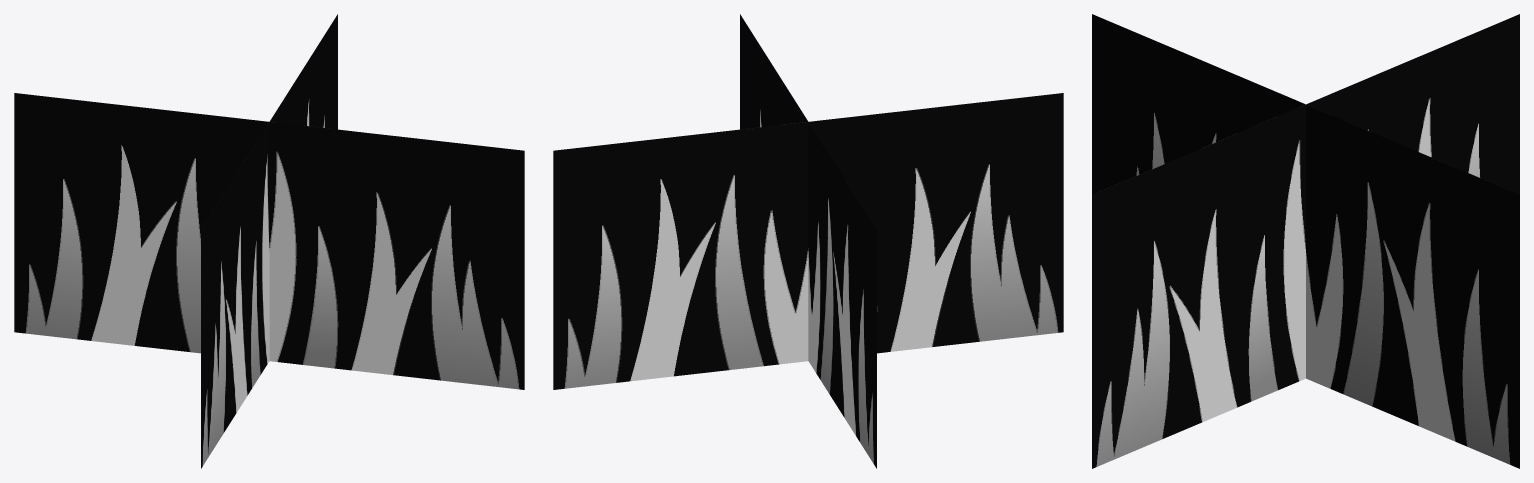
The model's file is block_crosshatch.glb.
3 views of the same model, side by side, from view 1: azimuth 30°, elevation 25°; view 2: azimuth 150°, elevation 25°; view 3: azimuth 270°, elevation 25° (orthographic). The views are drawn at different scales.
Parts seen in each view (by area): view 1: Plane; view 2: Plane; view 3: Plane.
Part boxes in pixels (x1,y1,x2,y2): Plane: [14, 14, 524, 468]; Plane: [553, 14, 1063, 468]; Plane: [1092, 14, 1519, 468].
Bounding box in the file's own units: 1.41 × 1 × 1.41.
Materials: 1 (1 with a texture image).
